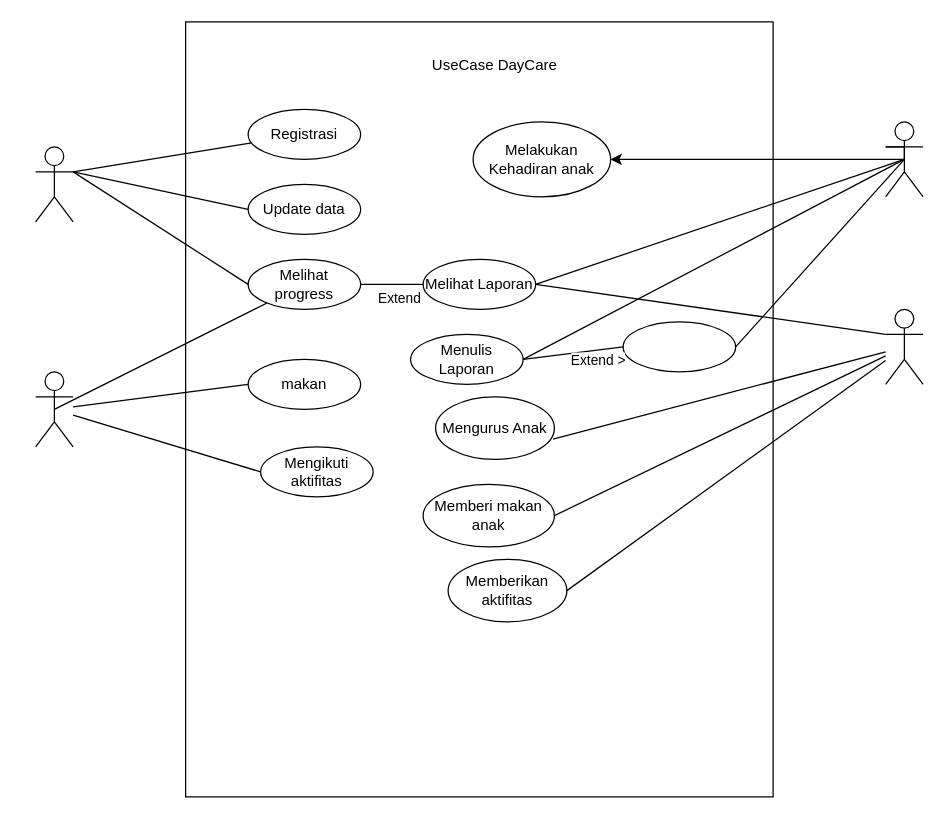
This 948x819 diagram has some shape labels left out. Here are the shapes that lost their labels. From the top down, the centre of each, then its label:
At (903,159): "Admin".
At (53,184): "Orang tua".
At (679,346): "Verifikasi Laporan".
At (903,346): "Staf".
At (53,409): "Anak".
